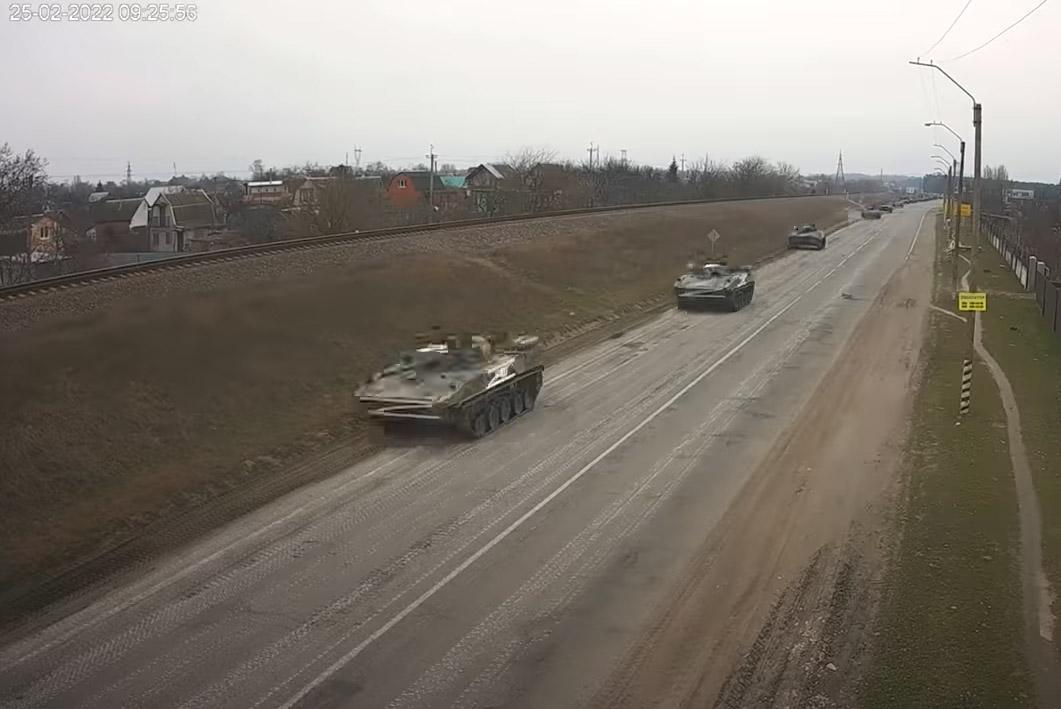tank: (350, 316, 560, 450), (673, 258, 754, 315), (782, 222, 830, 253), (858, 207, 884, 223)
